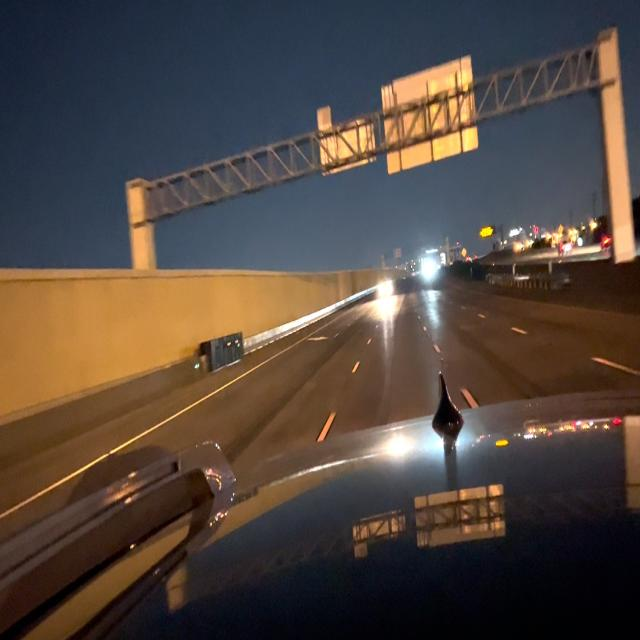back-of-sign: (381, 55, 478, 175), (322, 119, 378, 176), (315, 106, 331, 130)
